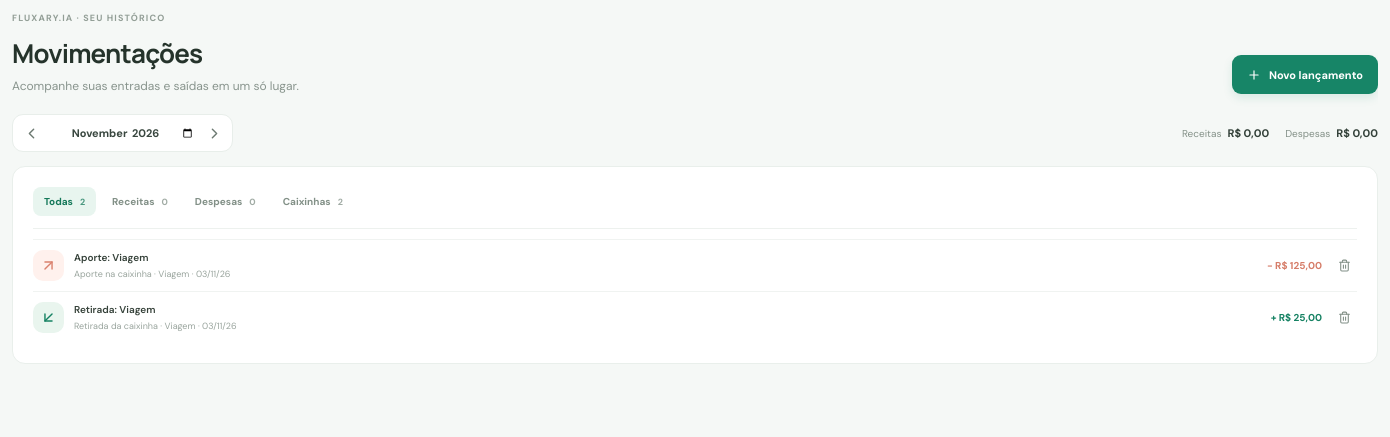
Test: caixinhas › mostra aportes e retiradas em Movimentações sem tratá-los como despesa ou receita
Expected: the text "Aporte: Viagem" is shown, [74,251,148,264]
Expected: the text "Aporte na caixinha · Viagem · 03/11/26" is shown, [74,268,230,280]
Click the tab "Caixinhas 2": (313, 202) [272,187,354,216]
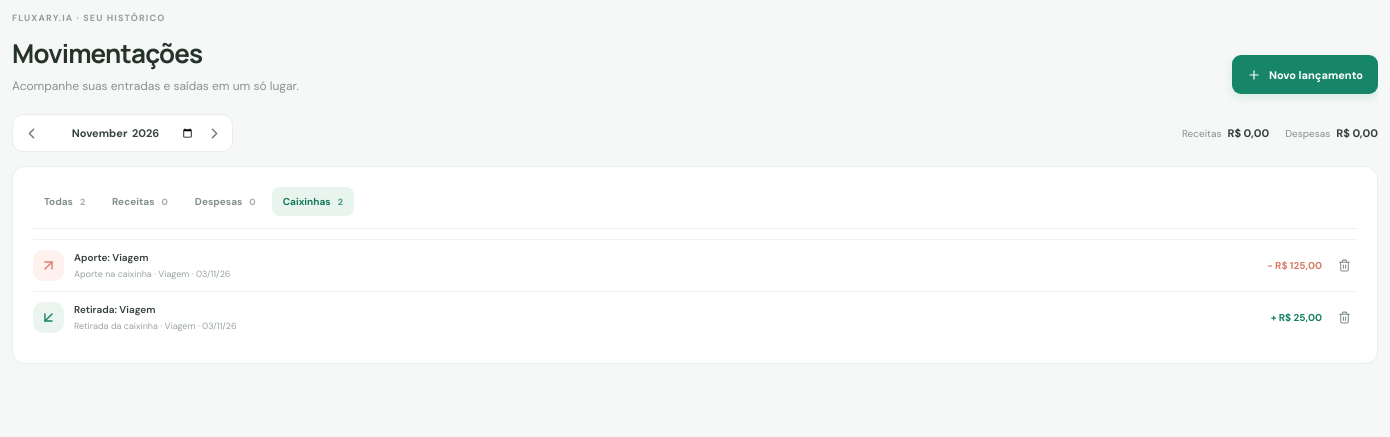
Expected: the text "Aporte: Viagem" is shown, [74,251,148,264]
Expected: the text "Retirada: Viagem" is shown, [74,303,156,316]
Click the tab "Despesas 0": (225, 202) [184,187,267,216]
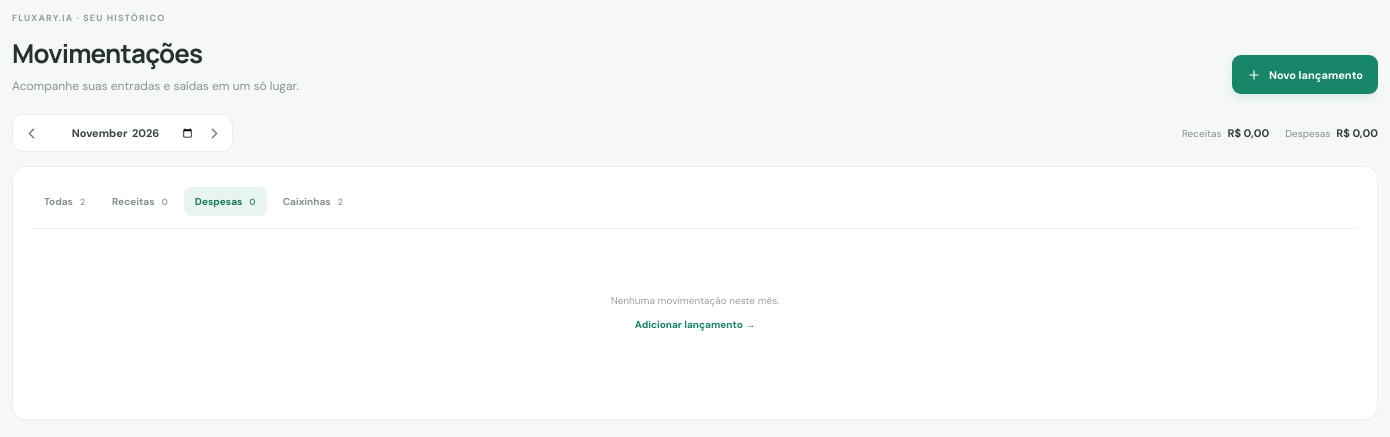
Expected: the text "Aporte: Viagem" is gone
Expected: the text "Retirada: Viagem" is gone
